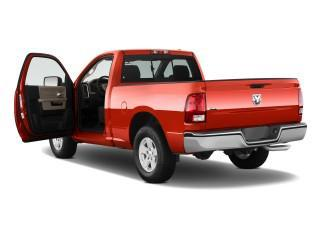ram: (249, 91, 265, 107)
